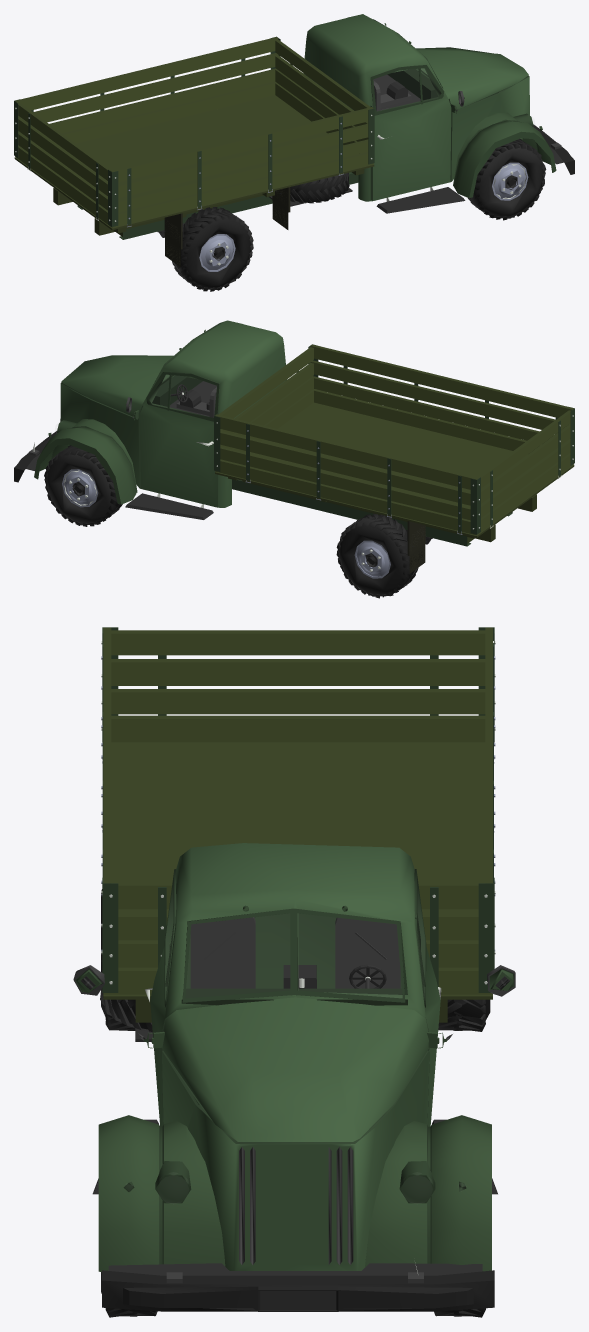
File: gaz51-b.glb
3 renders of one model, top to bottom at view 1: azimuth 30°, elevation 25°; view 2: azimuth 150°, elevation 25°; view 3: azimuth 270°, elevation 25°, orthographic. The views are drawn at different scales.
Parts seen in each view (by area): view 1: turn; view 2: turn; view 3: turn.
Boxes of the visible parts, x1,y1,x2,y2 form: turn: [14, 14, 574, 291]; turn: [14, 320, 574, 598]; turn: [73, 627, 515, 1317].
Size of the model in its own units: 0.6701 by 0.2361 by 0.2726.
4 materials, 4 textured.
